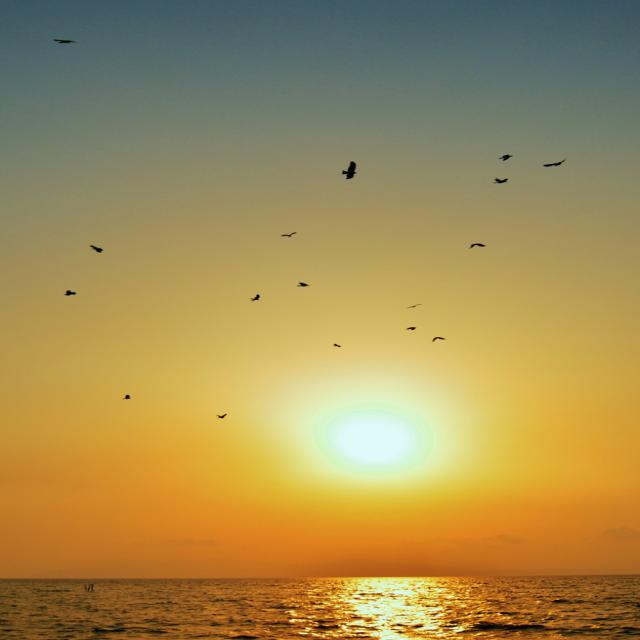bird: (342, 162, 358, 182), (542, 158, 567, 170), (54, 38, 74, 48), (280, 230, 298, 241), (432, 335, 448, 347), (470, 241, 488, 251), (500, 153, 514, 165), (495, 174, 510, 185), (404, 300, 420, 310), (248, 294, 262, 305), (90, 243, 104, 254), (63, 289, 77, 300), (217, 412, 230, 422), (297, 280, 311, 289), (331, 341, 343, 351), (406, 323, 419, 332), (123, 394, 133, 404)
